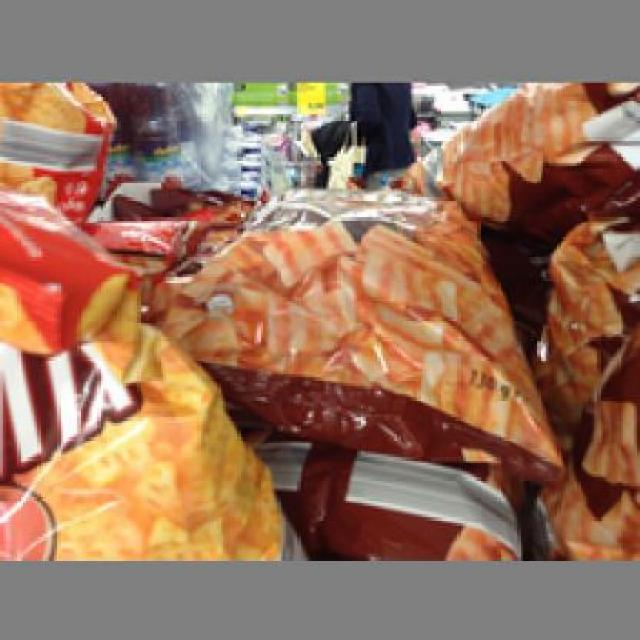Chips: (169, 163, 580, 468), (383, 83, 637, 223)
